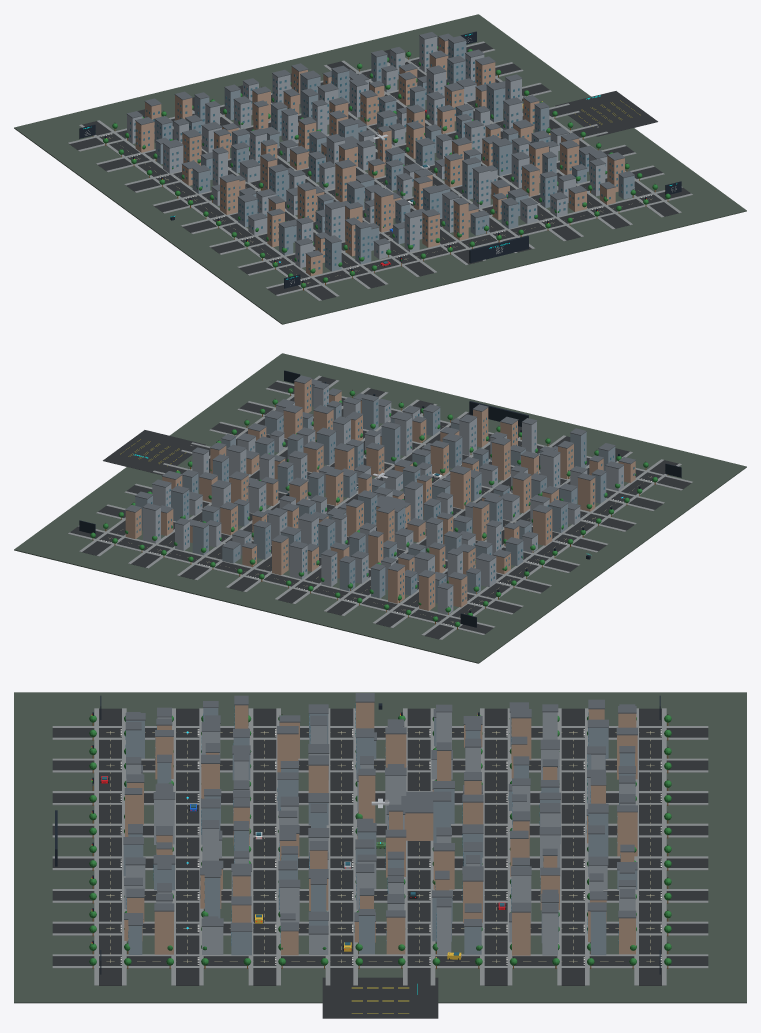
The picture shows the model from 3 angles, top to bottom: view 1: azimuth 30°, elevation 25°; view 2: azimuth 150°, elevation 25°; view 3: azimuth 270°, elevation 25°; orthographic projection. The views are drawn at different scales.
Visible parts, largest first — view 1: SC_Ground, SC_Road_V_01, SC_Road_H_01, SC_ParkingGround, SC_Sidewalk_H_1_S, SC_Road_H_02, SC_Sidewalk_H_1_N, SC_MainDashboard, SC_Road_H_05, SC_Sidewalk_V_1_E, SC_Road_H_03, SC_Road_H_04 (+22 smaller); view 2: SC_Ground, SC_Road_H_08, SC_Road_V_01, SC_ParkingGround, SC_Sidewalk_H_8_N, SC_Sidewalk_H_8_S, SC_Road_H_03, SC_Sidewalk_V_1_E, SC_Road_V_02, SC_Road_V_07, SC_Road_H_07, SC_Road_V_06 (+24 smaller); view 3: SC_Ground, SC_Road_H_07, SC_Road_H_06, SC_Road_H_02, SC_Road_H_03, SC_Road_H_04, SC_Road_H_08, SC_Road_H_01, SC_Road_H_05, SC_ParkingGround, SC_Road_V_08, SC_Road_V_05 (+62 smaller).
Boxes of the visible parts, x1,y1,x2,y2 form: SC_Ground: [14, 14, 746, 324]; SC_Road_V_01: [82, 121, 336, 300]; SC_Road_H_01: [267, 187, 690, 294]; SC_ParkingGround: [555, 91, 657, 136]; SC_Sidewalk_H_1_S: [276, 193, 692, 296]; SC_Road_H_02: [239, 167, 662, 274]; SC_Sidewalk_H_1_N: [265, 186, 682, 288]; SC_MainDashboard: [469, 235, 528, 263]; SC_Road_H_05: [154, 105, 577, 212]; SC_Sidewalk_V_1_E: [97, 120, 339, 296]; SC_Road_H_03: [211, 146, 634, 253]; SC_Road_H_04: [183, 125, 606, 232]; SC_Ground: [14, 353, 746, 663]; SC_Road_H_08: [70, 526, 493, 633]; SC_Road_V_01: [424, 460, 678, 639]; SC_ParkingGround: [103, 430, 205, 475]; SC_Sidewalk_H_8_N: [68, 532, 484, 635]; SC_Sidewalk_H_8_S: [78, 525, 495, 627]; SC_Road_H_03: [211, 423, 634, 530]; SC_Sidewalk_V_1_E: [421, 459, 663, 635]; SC_Road_V_02: [375, 448, 629, 627]; SC_Road_V_07: [131, 388, 384, 567]; SC_Road_H_07: [98, 506, 521, 613]; SC_Road_V_06: [180, 400, 433, 579]; SC_Ground: [14, 692, 746, 1003]; SC_Road_H_07: [561, 708, 584, 985]; SC_Road_H_06: [484, 708, 507, 985]; SC_Road_H_02: [176, 708, 199, 985]; SC_Road_H_03: [253, 708, 276, 985]; SC_Road_H_04: [330, 708, 353, 985]; SC_Road_H_08: [639, 708, 661, 985]; SC_Road_H_01: [99, 708, 121, 985]; SC_Road_H_05: [407, 708, 430, 985]; SC_ParkingGround: [322, 977, 438, 1018]; SC_Road_V_08: [52, 956, 708, 965]; SC_Road_V_05: [52, 858, 708, 867].
Size of the model in its own units: 400 by 29.17 by 380.
